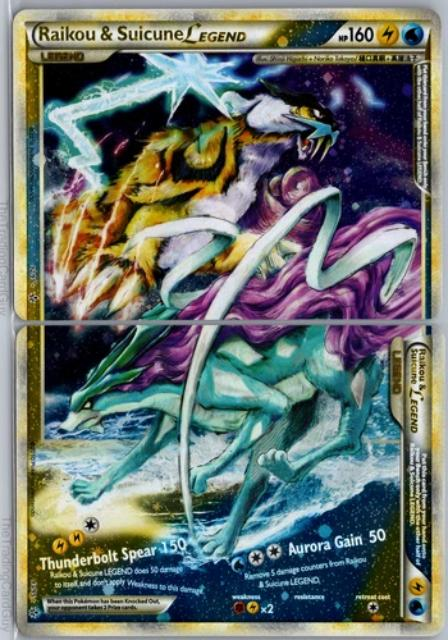Card: (8, 5, 445, 324), (13, 320, 447, 639)
Name: (29, 20, 253, 52), (406, 344, 432, 451)
